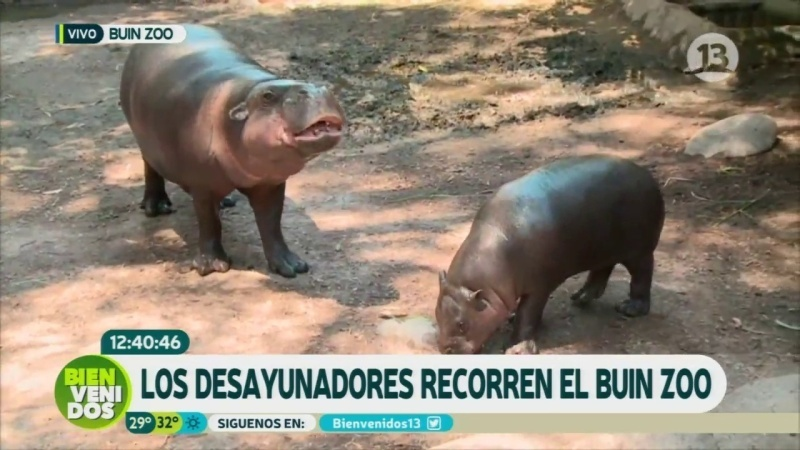hipopotamo: (98, 12, 359, 292), (414, 141, 680, 352)
